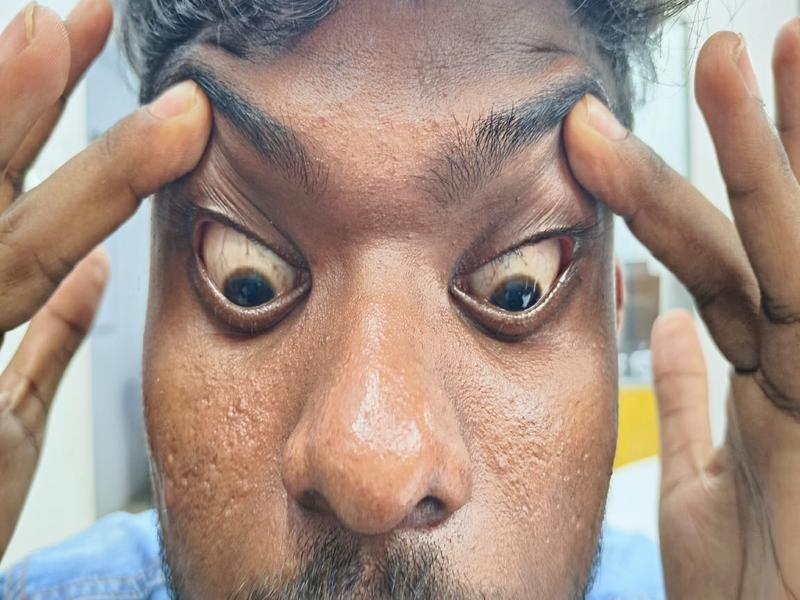EYE DOWN: (204, 227, 297, 310), (480, 238, 552, 310)
